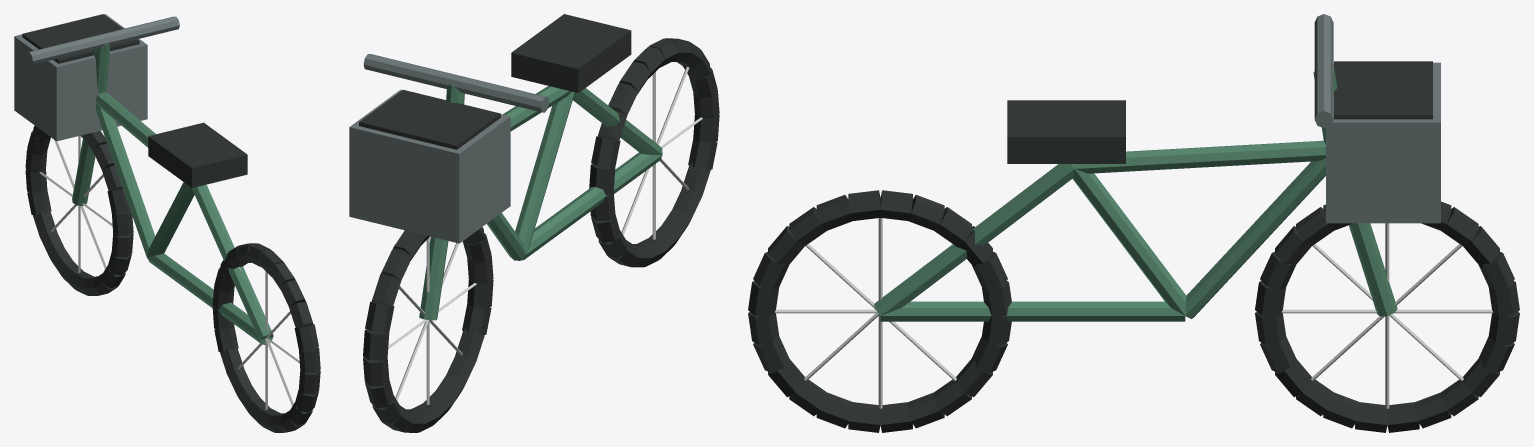
Rendered from bicycle.glb.
3 views of the same model, side by side, from view 1: azimuth 30°, elevation 25°; view 2: azimuth 150°, elevation 25°; view 3: azimuth 270°, elevation 25° (orthographic). The views are drawn at different scales.
Visible parts, largest first — view 1: bicycle_rubber, bicycle_steel, bicycle_green, bicycle_aluminium; view 2: bicycle_rubber, bicycle_steel, bicycle_green, bicycle_aluminium; view 3: bicycle_rubber, bicycle_green, bicycle_steel, bicycle_aluminium.
Boxes of the visible parts, bbox=[...] form: bicycle_rubber: bbox=[22, 14, 320, 432]; bicycle_steel: bbox=[14, 14, 179, 141]; bicycle_green: bbox=[72, 43, 273, 344]; bicycle_aluminium: bbox=[39, 136, 299, 409]; bicycle_rubber: bbox=[359, 14, 719, 432]; bicycle_steel: bbox=[349, 54, 549, 243]; bicycle_green: bbox=[419, 84, 662, 320]; bicycle_aluminium: bbox=[388, 67, 702, 404]; bicycle_rubber: bbox=[748, 61, 1519, 432]; bicycle_green: bbox=[874, 68, 1397, 321]; bicycle_steel: bbox=[1314, 14, 1440, 223]; bicycle_aluminium: bbox=[774, 218, 1493, 408].
Bounding box in the file's own units: 0.58 × 1.02 × 1.95.
